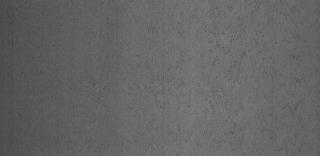silk spot: (131, 6, 309, 146)
